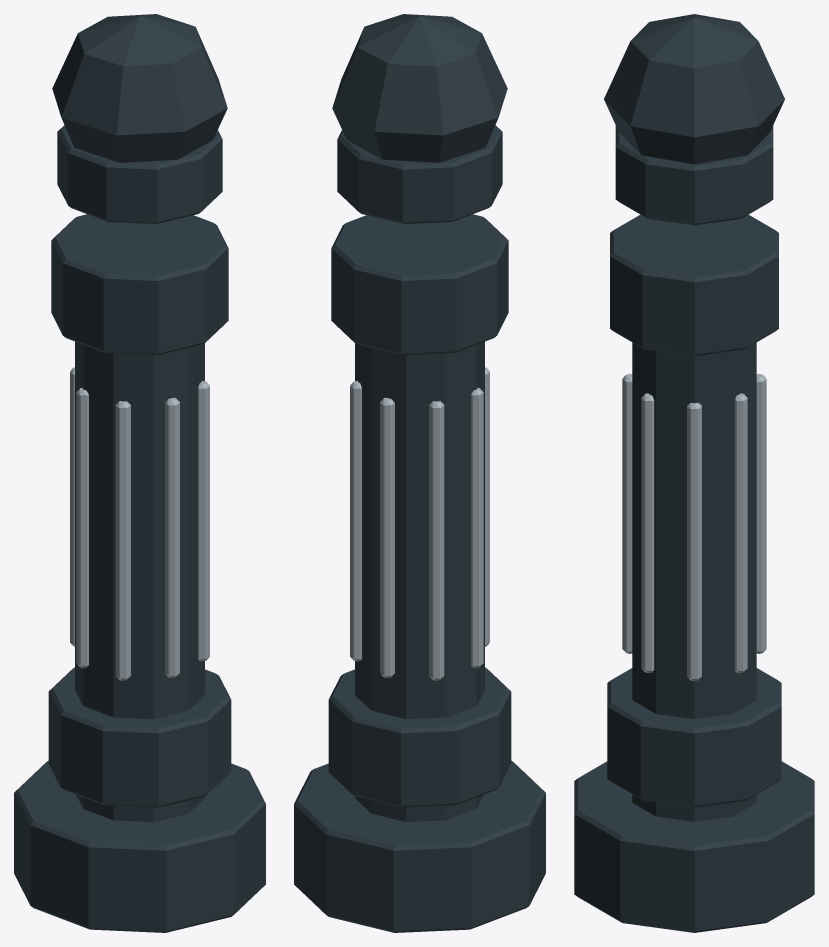
The model's file is b01_decorative_cast_bollard.glb.
3 views of the same model, side by side, from view 1: azimuth 30°, elevation 25°; view 2: azimuth 150°, elevation 25°; view 3: azimuth 270°, elevation 25° (orthographic).
Visible parts, largest first — view 1: b01_decorative_cast_bollard; view 2: b01_decorative_cast_bollard; view 3: b01_decorative_cast_bollard.
Boxes of the visible parts, x1,y1,x2,y2 form: b01_decorative_cast_bollard: (14,14,265,932); b01_decorative_cast_bollard: (294,14,545,932); b01_decorative_cast_bollard: (574,14,814,932).
Size of the model in its own units: 0.29 by 1.09 by 0.2758.
